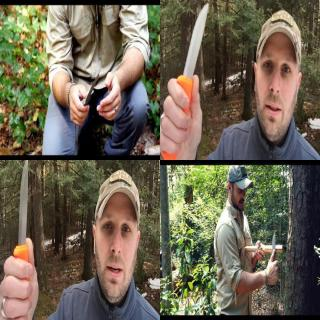knife: (160, 3, 213, 157), (0, 160, 40, 292), (70, 71, 100, 122), (268, 230, 280, 280)
